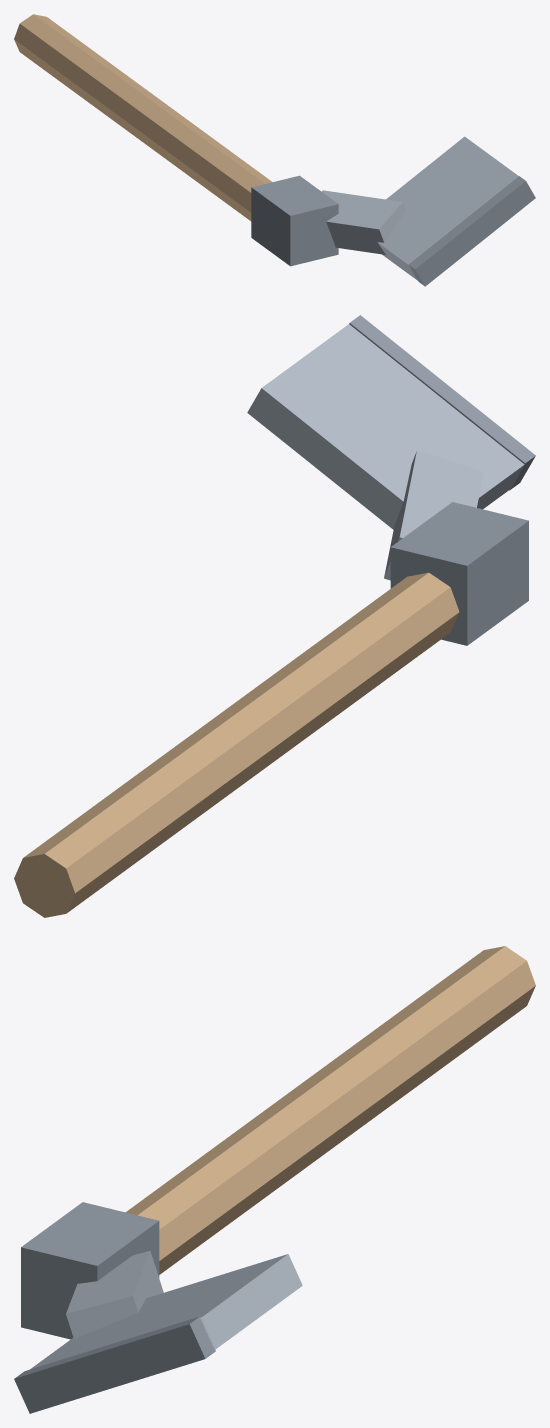
Rendered from item_iron_hoe.glb.
3 renders of one model, top to bottom at view 1: azimuth 30°, elevation 25°; view 2: azimuth 150°, elevation 25°; view 3: azimuth 330°, elevation 25°, orthographic. The views are drawn at different scales.
Parts seen in each view (by area): view 1: wood, iron, iron_dark; view 2: wood, iron, iron_dark; view 3: wood, iron_dark, iron.
Part boxes in pixels (bbox=[...]): wood: bbox=[14, 14, 272, 221]; iron: bbox=[321, 136, 518, 280]; iron_dark: bbox=[251, 175, 535, 286]; wood: bbox=[14, 572, 459, 917]; iron: bbox=[247, 324, 524, 580]; iron_dark: bbox=[349, 315, 535, 645]; wood: bbox=[125, 946, 535, 1274]; iron_dark: bbox=[14, 1202, 215, 1413]; iron: bbox=[30, 1251, 302, 1369].
Bounding box in the file's own units: 0.1876 × 0.0902 × 0.621.
